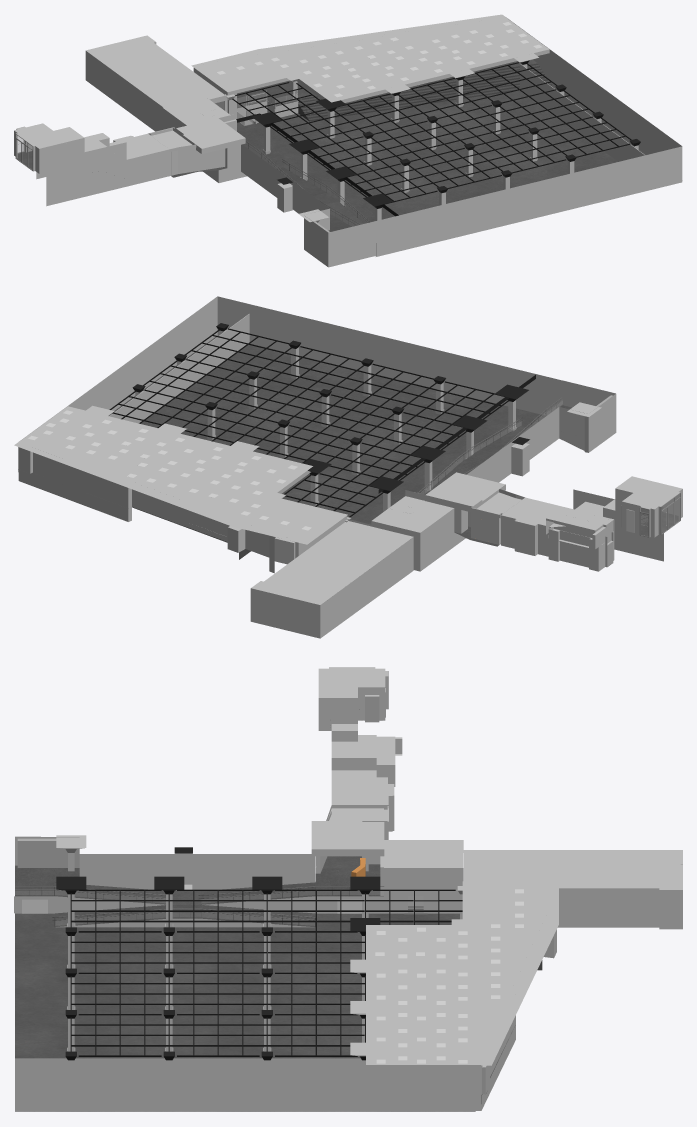
Rendered from makslas_telpa_prieks_aframe_06.glb.
The picture shows the model from 3 angles, top to bottom: view 1: azimuth 30°, elevation 25°; view 2: azimuth 150°, elevation 25°; view 3: azimuth 270°, elevation 25°; orthographic projection. The views are drawn at different scales.
Parts seen in each view (by area): view 1: grida, PLATF_SIENA, griesti_augstie, REZGIS.001, garderobe, GRIESTI_MAZA_ZALE, IEEJA.GRIESTI, kolonnas, DEZURANRES_GRIDA, DEZURANTE?, IEEJA.003, LAMPA.001 (+9 smaller); view 2: PLATF_SIENA, grida, griesti_augstie, REZGIS.001, IEEJA.GRIESTI, garderobe, GRIESTI_MAZA_ZALE, DEZURANRES_GRIDA, kolonnas, LAMPA.001, augša vienai melnai kolonnai, IEEJA.003 (+5 smaller); view 3: grida, PLATF_SIENA, griesti_augstie, REZGIS.001, IEEJA.GRIESTI, GRIESTI_MAZA_ZALE, DURVIS_ZEM_PLATF.grida, DEZURANRES_GRIDA, DURVIS_ZEM_PLATF, kolonnas, LAMPA.001, stikli.005 (+8 smaller).
Boxes of the visible parts, x1,y1,x2,y2 form: grida: [237, 59, 646, 223]; PLATF_SIENA: [85, 17, 682, 267]; griesti_augstie: [191, 14, 549, 102]; REZGIS.001: [232, 62, 631, 204]; garderobe: [36, 127, 183, 206]; GRIESTI_MAZA_ZALE: [86, 36, 224, 107]; IEEJA.GRIESTI: [14, 118, 245, 159]; kolonnas: [227, 63, 638, 220]; DEZURANRES_GRIDA: [162, 97, 246, 182]; DEZURANTE?: [169, 114, 240, 176]; IEEJA.003: [14, 129, 84, 173]; LAMPA.001: [217, 22, 542, 97]; PLATF_SIENA: [18, 296, 616, 638]; grida: [18, 335, 545, 559]; griesti_augstie: [14, 406, 347, 544]; REZGIS.001: [109, 328, 509, 517]; IEEJA.GRIESTI: [425, 472, 682, 550]; garderobe: [468, 489, 663, 571]; GRIESTI_MAZA_ZALE: [254, 521, 413, 604]; DEZURANRES_GRIDA: [371, 496, 465, 571]; kolonnas: [135, 330, 515, 511]; LAMPA.001: [28, 410, 311, 530]; augša vienai melnai kolonnai: [303, 384, 528, 490]; IEEJA.003: [615, 488, 682, 537]; grida: [15, 913, 542, 1111]; PLATF_SIENA: [15, 836, 682, 1110]; griesti_augstie: [366, 881, 558, 1065]; REZGIS.001: [70, 889, 462, 1056]; IEEJA.GRIESTI: [311, 667, 402, 856]; GRIESTI_MAZA_ZALE: [463, 850, 682, 888]; DURVIS_ZEM_PLATF.grida: [15, 865, 315, 927]; DEZURANRES_GRIDA: [315, 840, 463, 913]; DURVIS_ZEM_PLATF: [14, 896, 315, 927]; kolonnas: [68, 853, 462, 1064]; LAMPA.001: [375, 889, 523, 1063]; stikli.005: [15, 890, 383, 925].
Size of the model in its own units: 62.06 by 8.81 by 51.24.
25 materials, 4 textured.
